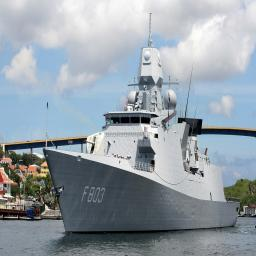Fragata: (1, 10, 165, 239)
